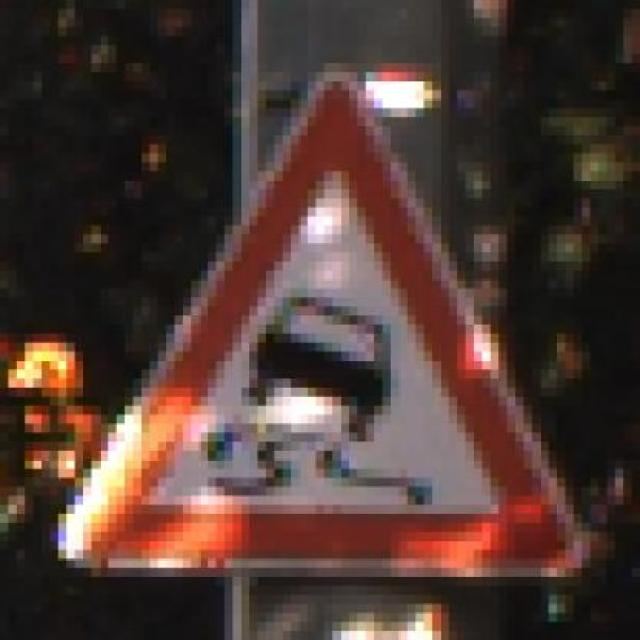Slippery Road Ahead: (49, 45, 598, 586)
